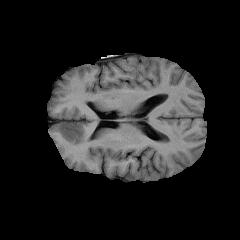glioma: (60, 123, 91, 145)
